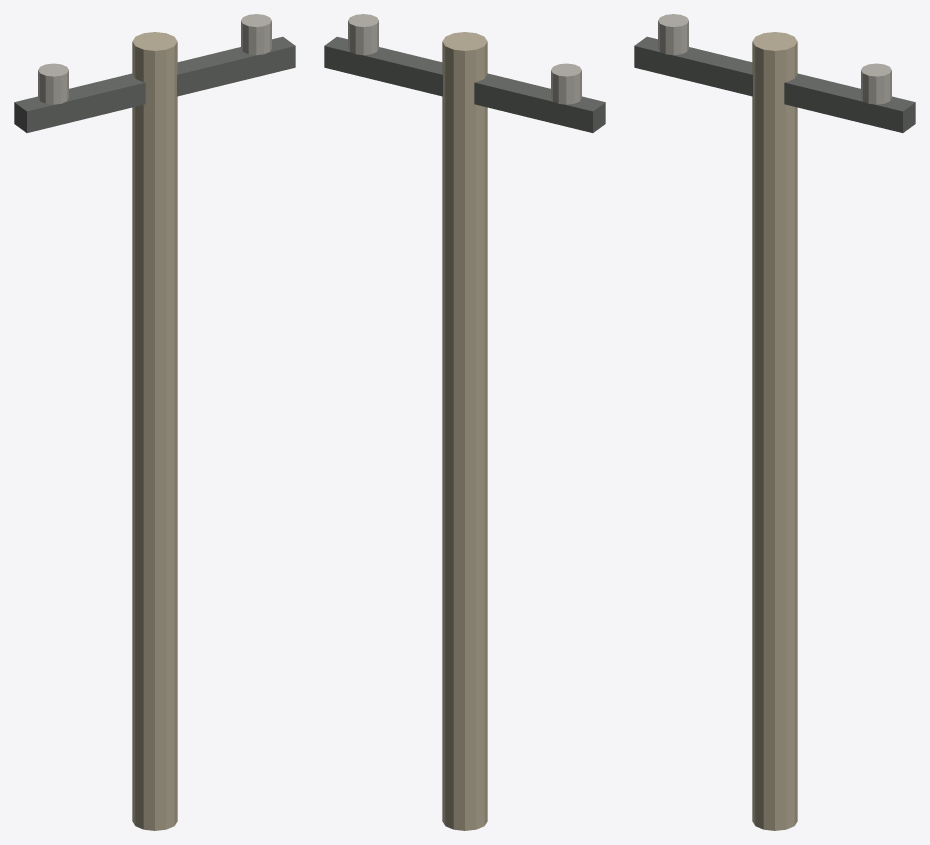
File: Dustline_UtilityPole_YUp.glb
3 renders of one model, left to right at view 1: azimuth 30°, elevation 25°; view 2: azimuth 150°, elevation 25°; view 3: azimuth 330°, elevation 25°, orthographic.
Visible parts, largest first — view 1: warped_pole, crossarm, insulator_0.83, insulator_-0.83; view 2: warped_pole, crossarm, insulator_0.83, insulator_-0.83; view 3: warped_pole, crossarm, insulator_-0.83, insulator_0.83.
Part boxes in pixels (x1,y1,x2,y2): warped_pole: [132, 32, 177, 830]; crossarm: [14, 36, 295, 132]; insulator_0.83: [241, 14, 271, 55]; insulator_-0.83: [38, 63, 68, 104]; warped_pole: [442, 32, 487, 830]; crossarm: [324, 36, 605, 132]; insulator_0.83: [348, 14, 378, 55]; insulator_-0.83: [551, 63, 581, 104]; warped_pole: [752, 32, 797, 830]; crossarm: [634, 36, 915, 132]; insulator_-0.83: [658, 14, 688, 55]; insulator_0.83: [861, 63, 891, 104].
Bounding box in the file's own units: 2.2 × 6.1 × 0.32.
